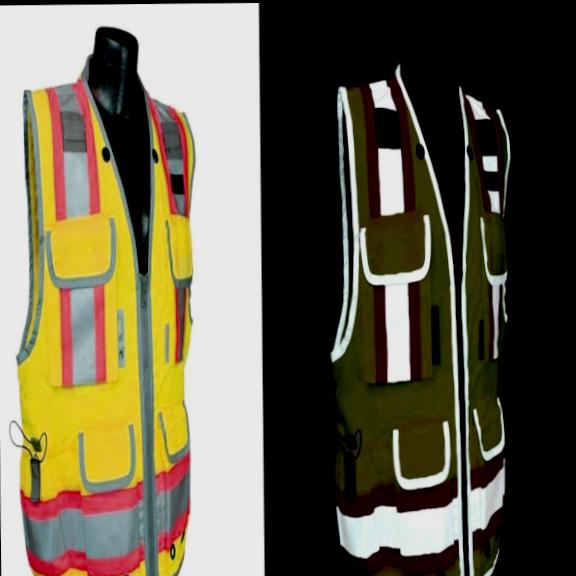safety_vest: (10, 57, 203, 576)
